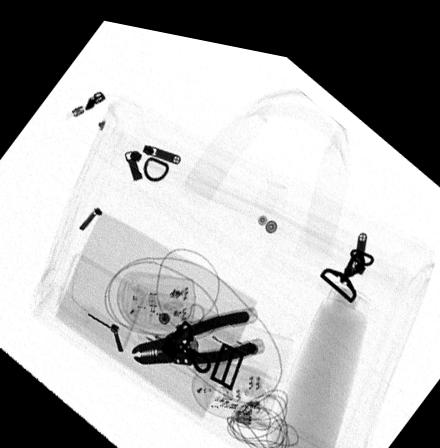Pliers: (131, 298, 259, 360)
